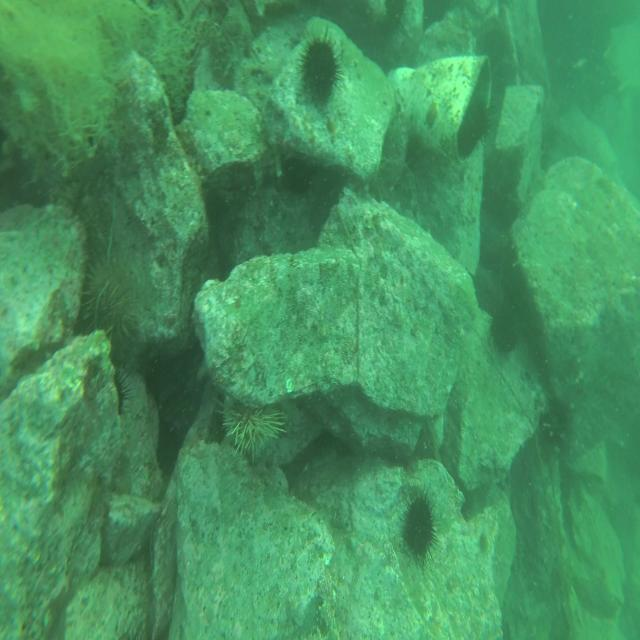echinus: (82, 251, 144, 351), (217, 400, 291, 460), (296, 35, 348, 109), (403, 488, 437, 560), (493, 303, 523, 361), (106, 367, 134, 419), (467, 98, 492, 148)
holothurian: (206, 18, 247, 77)
